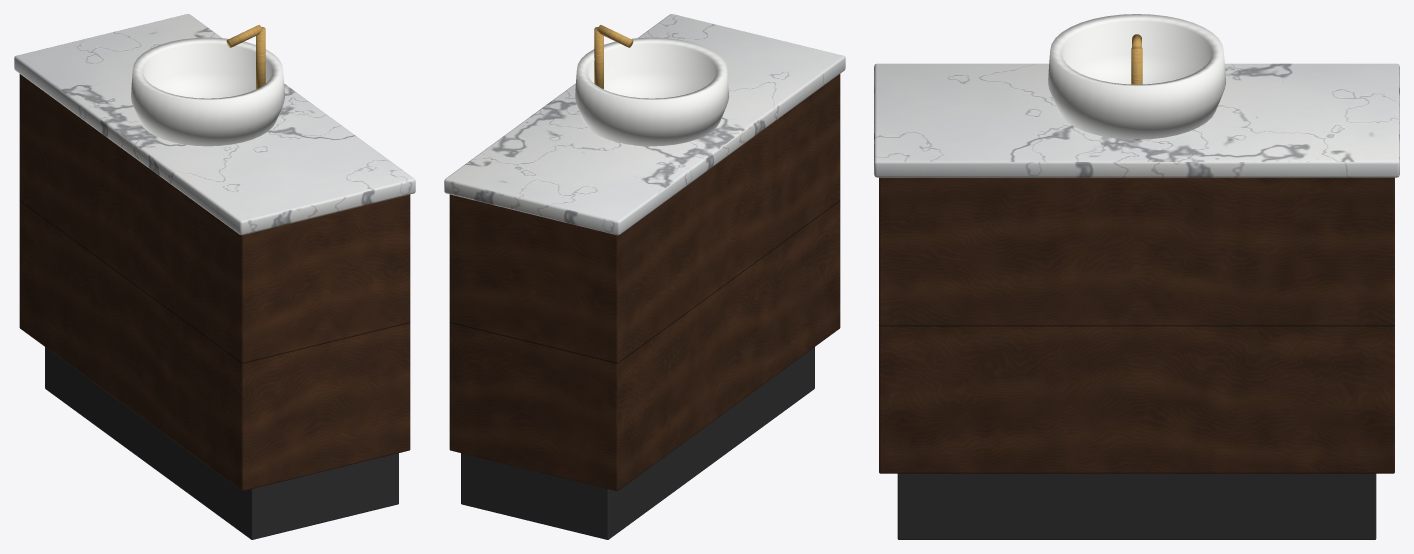
The model's file is bath2_vanity.glb.
3 views of the same model, side by side, from view 1: azimuth 30°, elevation 25°; view 2: azimuth 150°, elevation 25°; view 3: azimuth 270°, elevation 25° (orthographic). The views are drawn at different scales.
Parts seen in each view (by area): view 1: bath2_vanity; view 2: bath2_vanity; view 3: bath2_vanity.
Part boxes in pixels (x1,y1,x2,y2): bath2_vanity: (14,14,415,539); bath2_vanity: (444,14,845,539); bath2_vanity: (874,14,1399,539).
Bounding box in the file's own units: 0.5 × 1.12 × 1.12.
Materials: 5 (3 with a texture image).
